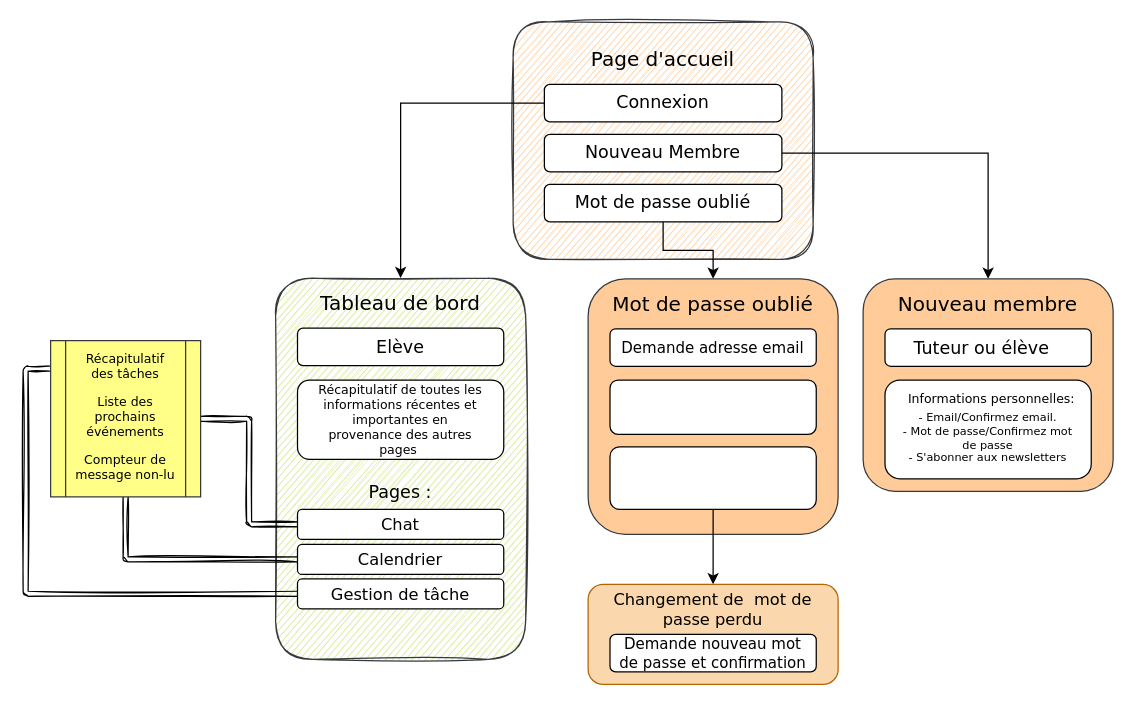
This 1135x706 diagram has some shape labels left out. The centre of each missing label's shape, as x and y in pixels:
Affiche la confirmation d'envoie d'email de récupération: pixel 712 406
Génère un lien unique de récupération de mot de passe et envoie un email: pixel 712 477
